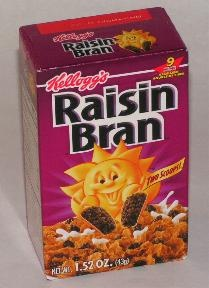grozi_94: (17, 7, 192, 280)
